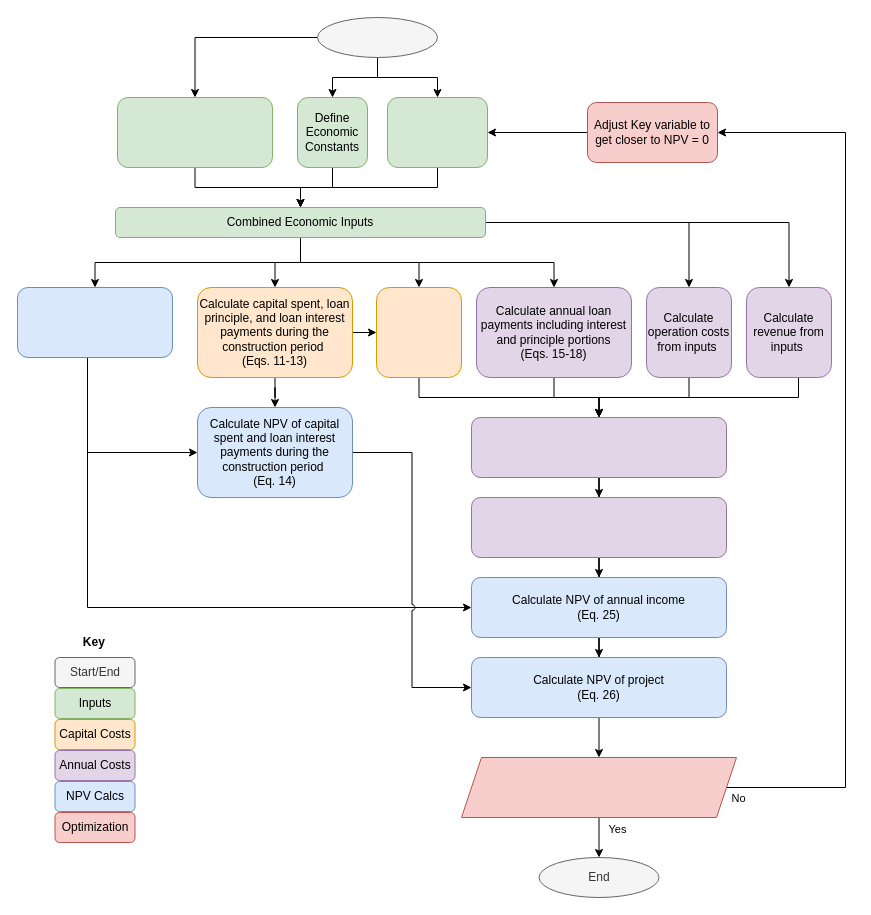
The diagram is 871 pixels wide and 915 high, and some of its shapes have lost their labels. The shapes that lost their labels are listed below. From the top down, each one's centre as x and y in pixels, then its label:
the point at 377,37: Start
the point at 194,132: Determine Construction Duration and Project Terms (Eqs. 7 & 8)
the point at 437,132: Set Key Variable Value (e.g. Milk Price)
the point at 94,322: Calculate Discount Factor for each year using IRR (Eq. 9)
the point at 419,332: Calculate capital depreciation (Eq. 19)
the point at 598,447: Calculate net revenue and taxable income (Eqs. 20-22)
the point at 598,527: Calculate income tax and annual income (Eqs. 23-24)
the point at 598,787: Goal Seek Optimization Does NPV = 0?
